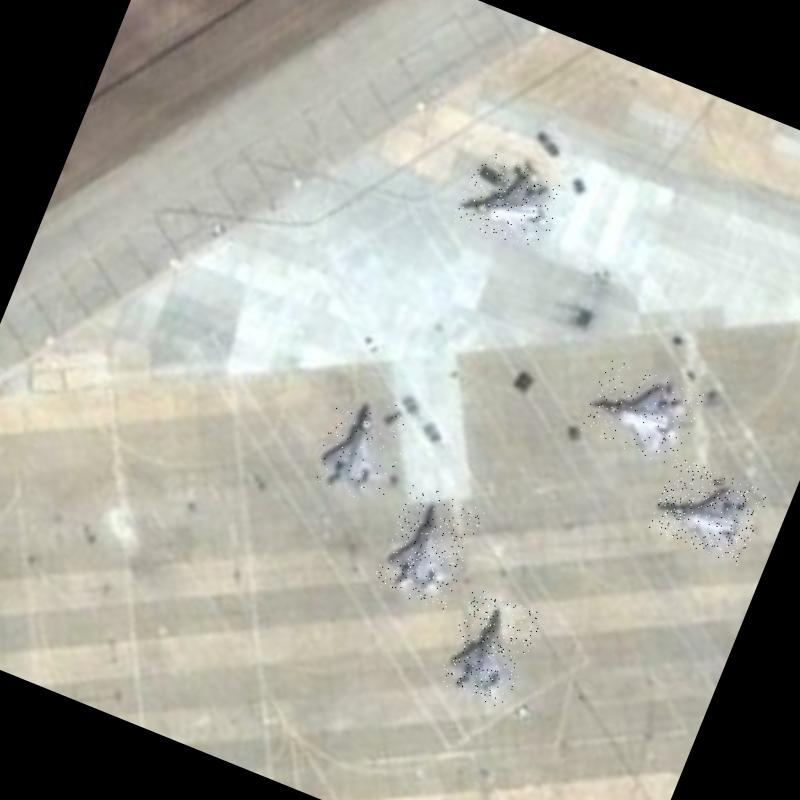A15: (371, 480, 485, 612), (579, 356, 704, 469), (306, 384, 418, 509), (435, 586, 543, 711), (647, 456, 769, 566), (450, 148, 568, 256)
